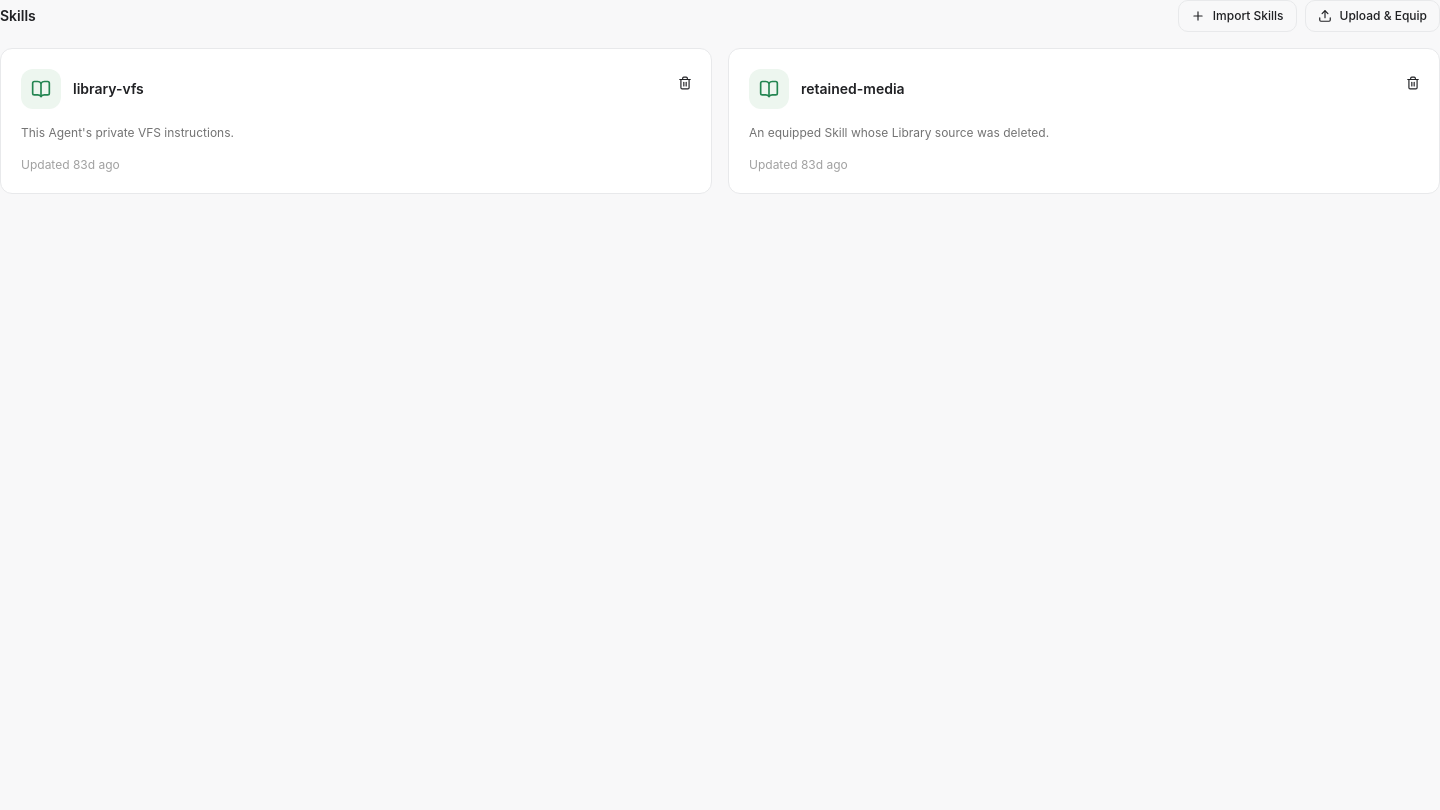
Agent Skills › marks and updates an existing copy: library-vfs / skill_library_vfs
Click the button "Import Skills".
click(1237, 16)  # box [1178,0,1296,32]
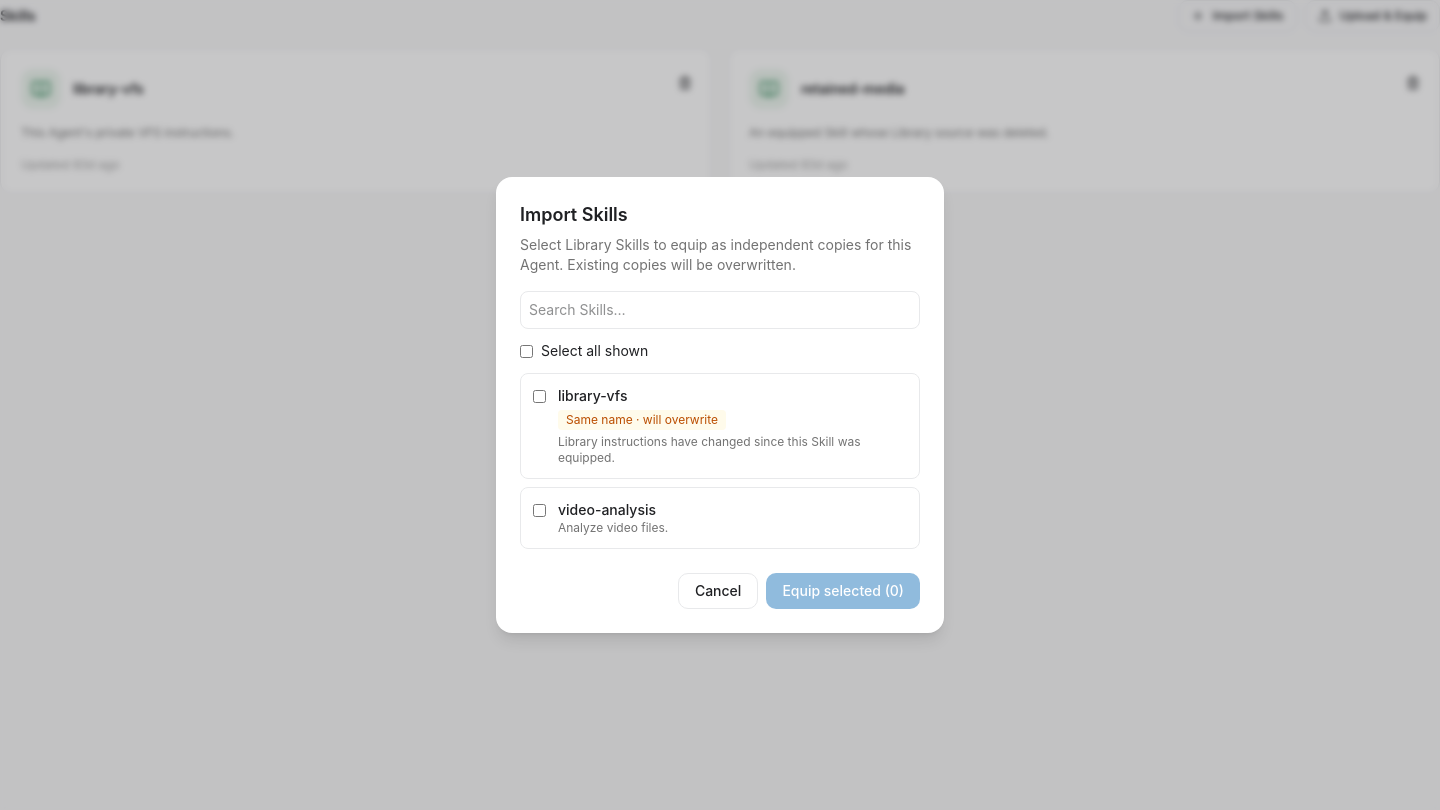
Click the checkbox named "Select library-vfs".
click(540, 396)  # box [533,390,546,403]
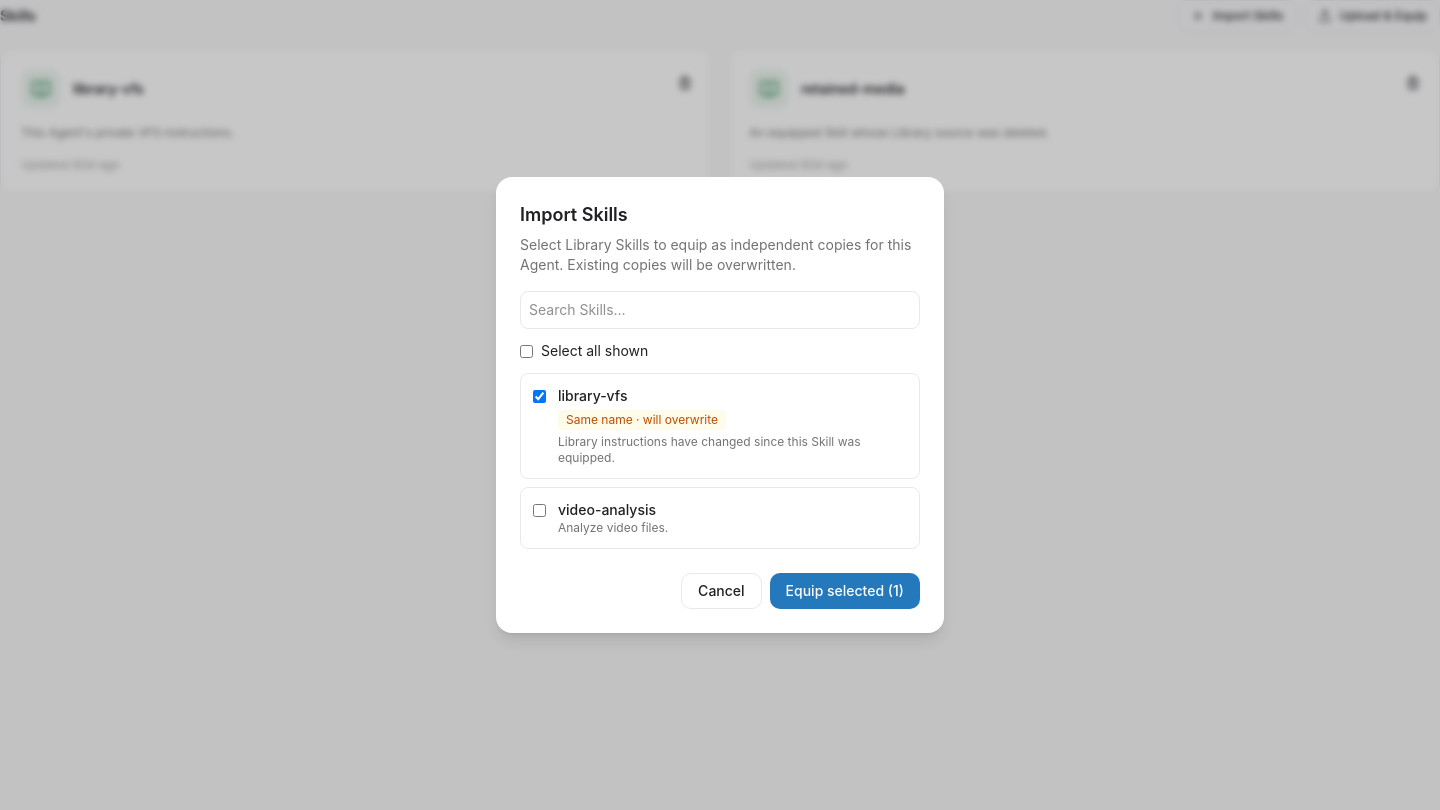
Click the button "Equip selected (1)".
click(845, 591)  # box [770,573,920,609]
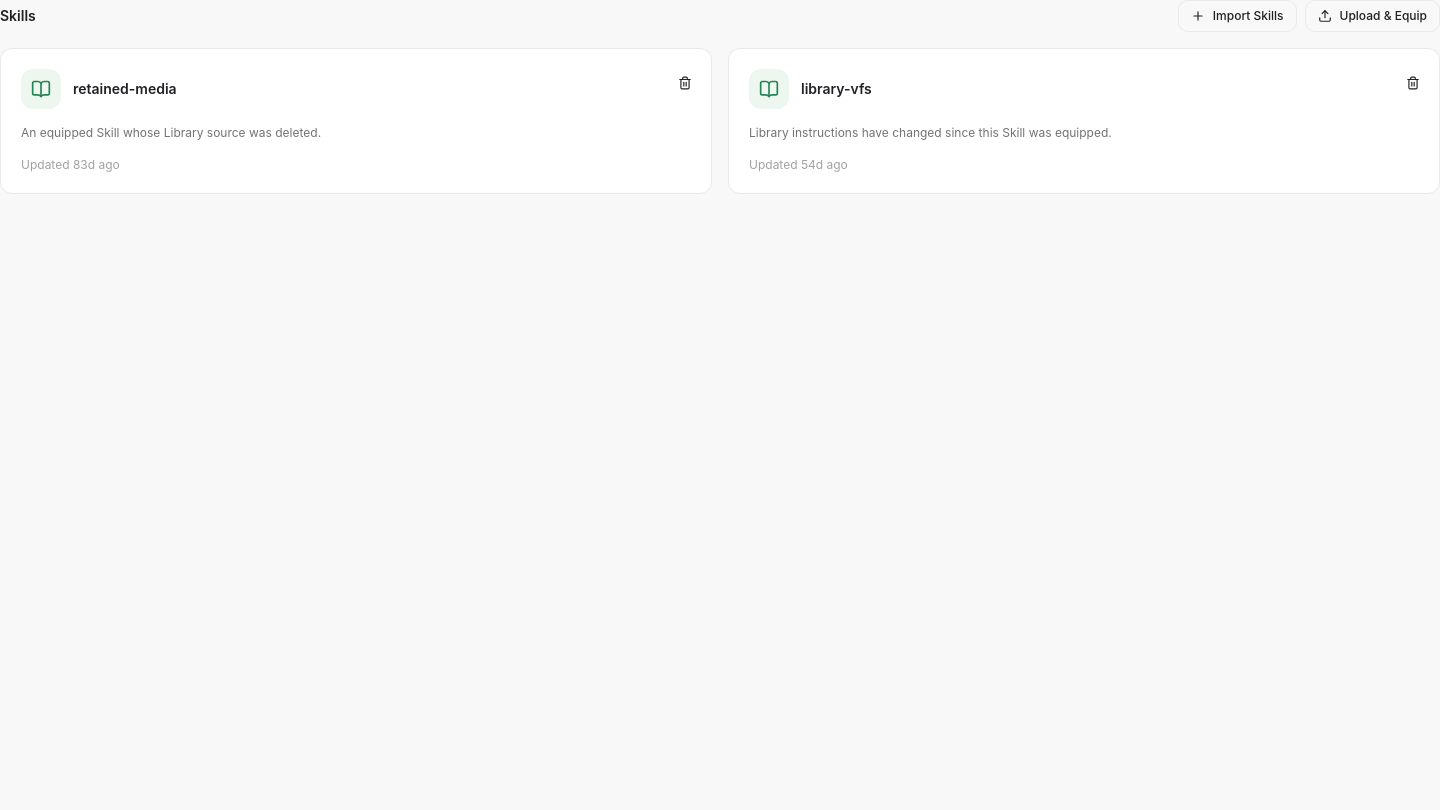
Check: the dialog is gone
